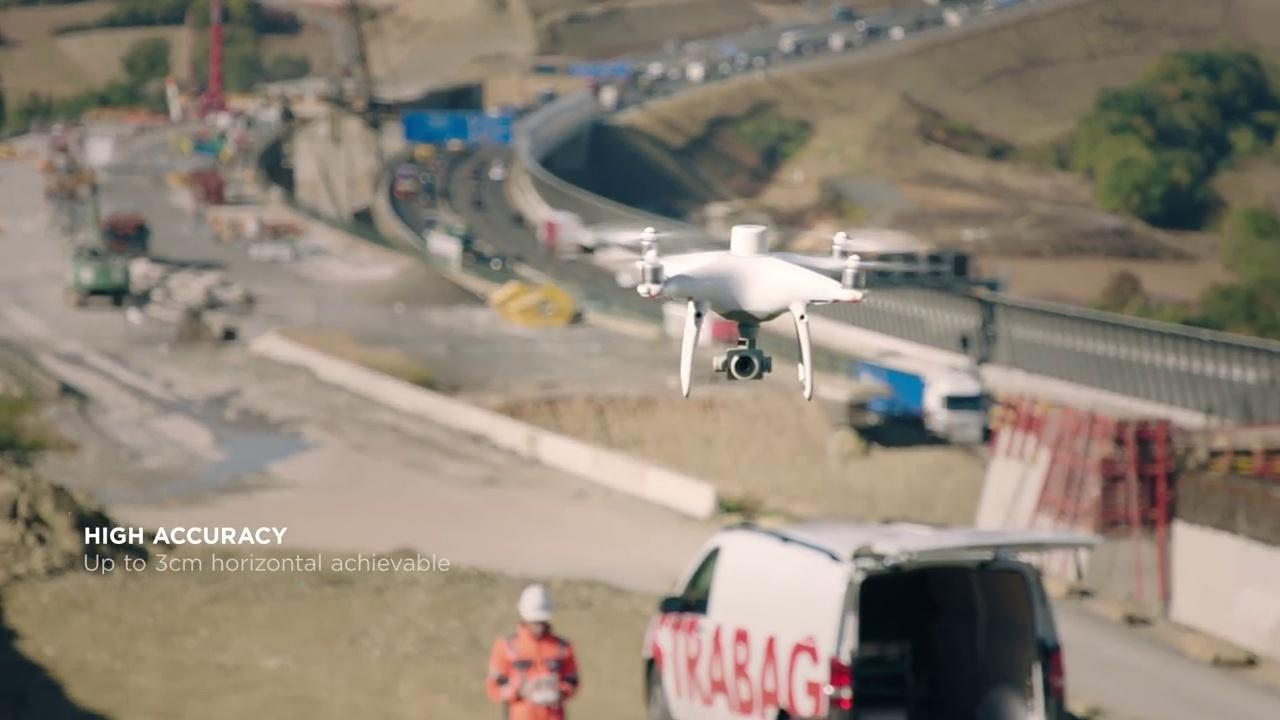drone: (576, 224, 945, 402)
